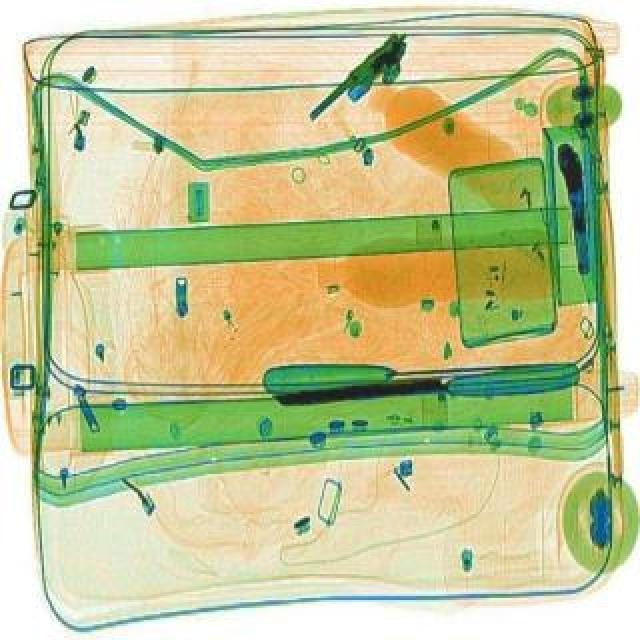gun: (296, 30, 428, 138), (554, 146, 594, 276)
knife: (260, 348, 576, 406), (270, 366, 578, 414)
